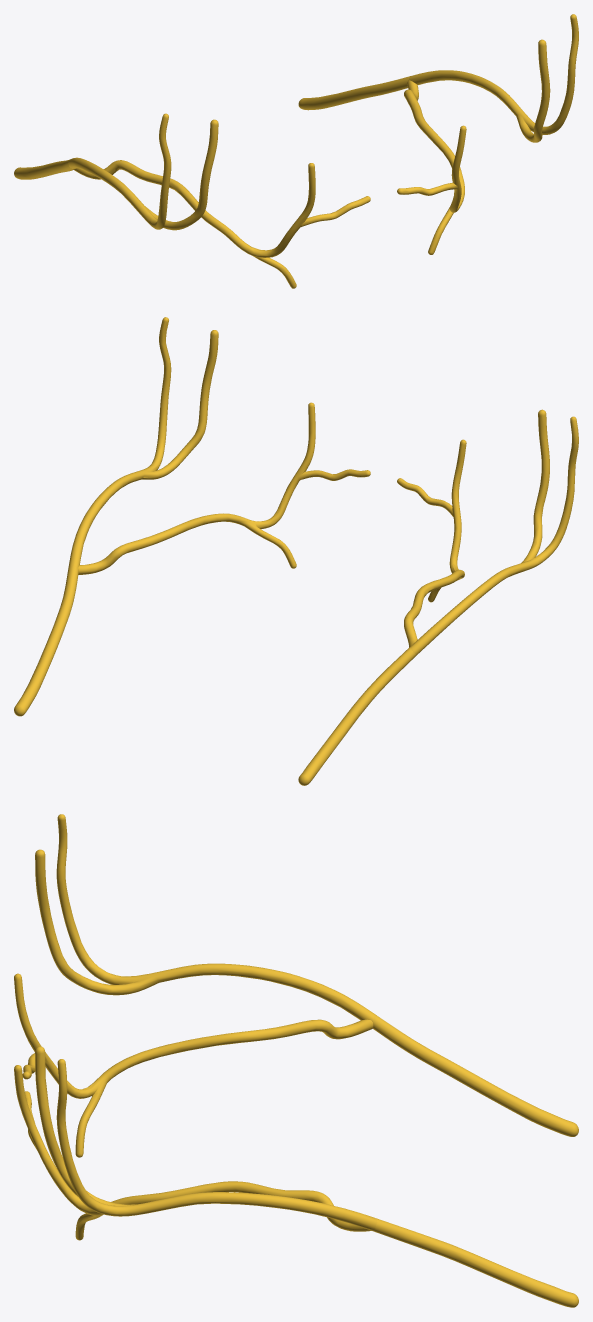
The model's file is frontal-nerve.glb.
3 renders of one model, top to bottom at view 1: azimuth 30°, elevation 25°; view 2: azimuth 150°, elevation 25°; view 3: azimuth 270°, elevation 25°, orthographic. The views are drawn at different scales.
Parts seen in each view (by area): view 1: grp1; view 2: grp1; view 3: grp1.
Boxes of the visible parts, left/top/right/bottom form: grp1: left=14, top=14, right=578, bottom=288; grp1: left=14, top=317, right=578, bottom=785; grp1: left=14, top=814, right=578, bottom=1307.
Size of the model in its own units: 0.0608 by 0.0321 by 0.0577.
